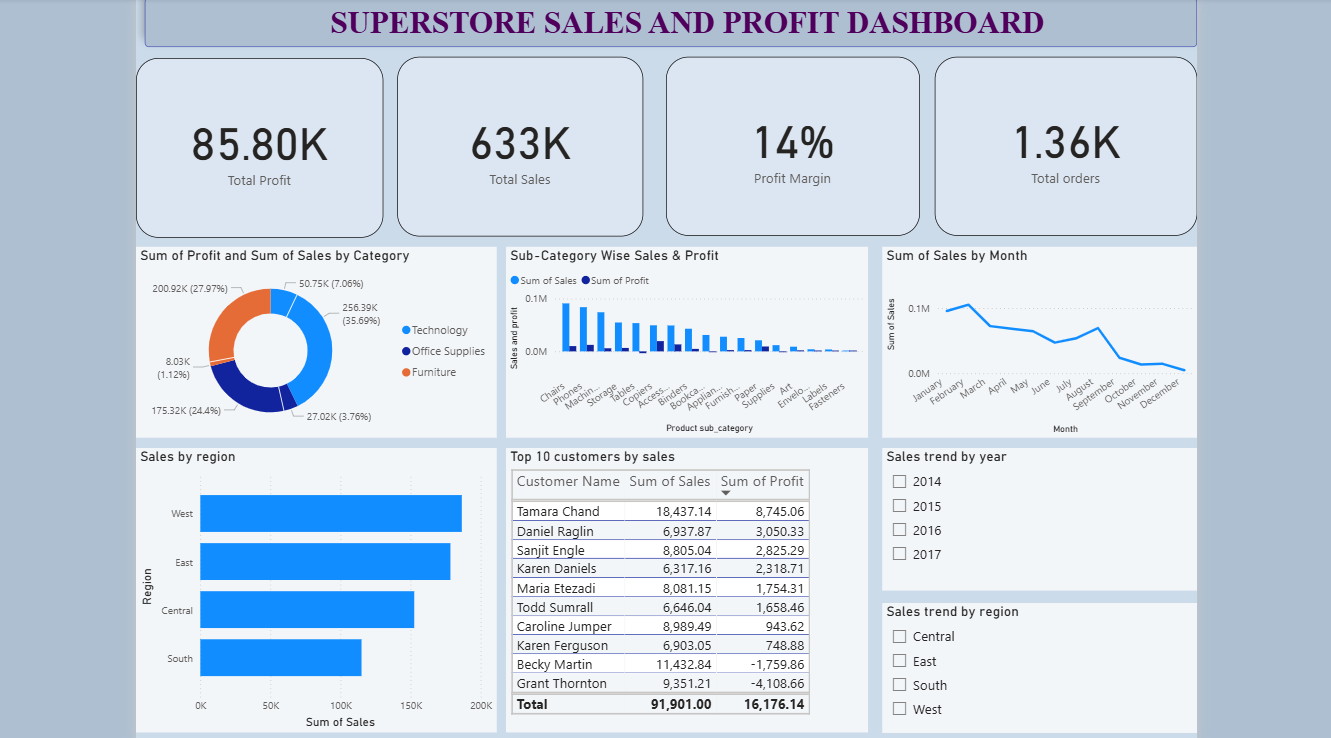

The page's visual inventory and layout, read from the dashboard file:
{"tool":"powerbi","page":{"name":"Page 1","canvas":[1280,900],"ordinal":0},"visuals":[{"type":"textbox","box":[10.6,0,1269.8,58.8],"z":0},{"type":"card","fields":{"Values":["Sample - Superstore.Total Profit"]},"box":[0,72.4,298.6,217.2],"z":1000},{"type":"card","fields":{"Values":["Sample - Superstore.Total Sales"]},"box":[315.2,70.9,297.1,217.2],"z":2000},{"type":"card","fields":{"Values":["Sample - Superstore.Profit Margin"]},"box":[639.4,70.9,306.1,215.7],"z":3000},{"type":"clusteredColumnChart","title":"Sub-Category Wise Sales & Profit","fields":{"Category":["Sample - Superstore.Sub-Category"],"Y":["Sample - Superstore.Sales","Sample - Superstore.Profit"]},"box":[446.7,300,436.7,230],"z":4000},{"type":"donutChart","fields":{"Category":["Sample - Superstore.Category"],"Y":["Sample - Superstore.Profit","Sample - Superstore.Sales"]},"box":[0,300,435,230],"z":5000},{"type":"card","fields":{"Values":["Sample - Superstore.Order ID"]},"box":[963.6,70.9,316.7,215.7],"z":6000},{"type":"lineChart","fields":{"Category":["Sample - Superstore.Order Date.Variation.Date Hierarchy.Month"],"Y":["Sample - Superstore.Sales"]},"box":[900.3,300.1,380,230.7],"z":7000},{"type":"barChart","title":"Sales by region","fields":{"Y":["Sample - Superstore.Sales"],"Category":["Sample - Superstore.Region"]},"box":[0,543.3,435,343.3],"z":8000},{"type":"tableEx","title":"Top 10 customers by sales","fields":{"Values":["Sample - Superstore.Customer Name","Sample - Superstore.Sales","Sample - Superstore.Profit"]},"box":[447,543,437,343],"z":9000},{"type":"slicer","title":"Sales trend by year","fields":{"Values":["Sample - Superstore.Order Date.Variation.Date Hierarchy.Year"]},"box":[900,543.3,380,171.7],"z":10000},{"type":"slicer","title":"Sales trend by region","fields":{"Values":["Sample - Superstore.Region"]},"box":[900,730,380,156.7],"z":11000}]}

Visuals, with their boxes on the page's 1280x900 design canvas (x1, y1, x2, y2). These are canvas units, not pixel positions in the 1331x738 screenshot, which may show the page scaled, cropped or inside an application window:
textbox: x1=11 y1=0 x2=1280 y2=59
card - Sample - Superstore.Total Profit: x1=0 y1=72 x2=299 y2=290
card - Sample - Superstore.Total Sales: x1=315 y1=71 x2=612 y2=288
card - Sample - Superstore.Profit Margin: x1=639 y1=71 x2=946 y2=287
"Sub-Category Wise Sales & Profit" clusteredColumnChart: x1=447 y1=300 x2=883 y2=530
donutChart - Sample - Superstore.Category x Sample - Superstore.Profit: x1=0 y1=300 x2=435 y2=530
card - Sample - Superstore.Order ID: x1=964 y1=71 x2=1280 y2=287
lineChart - Sample - Superstore.Order Date.Variation.Date Hierarchy.Month x Sample - Superstore.Sales: x1=900 y1=300 x2=1280 y2=531
"Sales by region" barChart: x1=0 y1=543 x2=435 y2=887
"Top 10 customers by sales" tableEx: x1=447 y1=543 x2=884 y2=886
"Sales trend by year" slicer: x1=900 y1=543 x2=1280 y2=715
"Sales trend by region" slicer: x1=900 y1=730 x2=1280 y2=887
